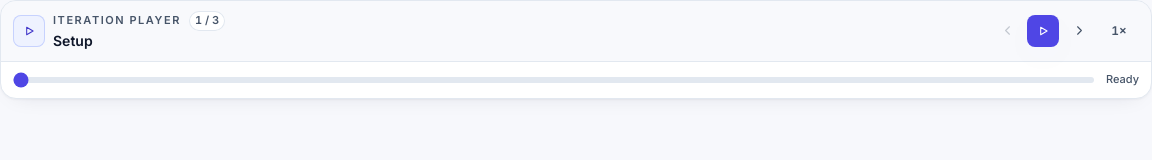
Scenario: IterationPlayer › moves through steps with the previous and next controls
Check: the slider named "Iteration step" holds "1", box [13,77,1094,83]
What coordinates should you click on to do the following:
click the button named "Next step"
I would click on:
 (1079, 31)
Its box is [1063,15,1095,47].
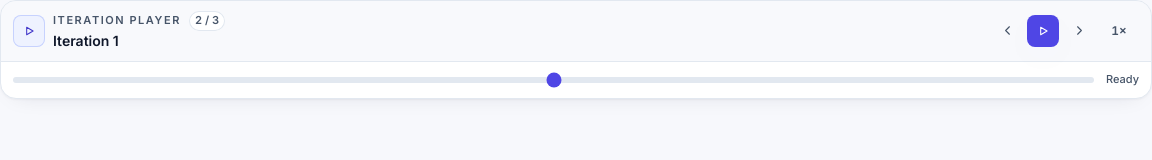
Check: the slider named "Iteration step" holds "2", box [13,77,1094,83]
What coordinates should you click on to do the following:
click the button named "Previous step"
I would click on:
 (1007, 31)
Its box is [991,15,1023,47].
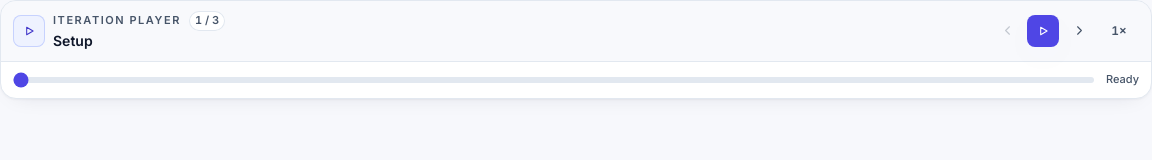
Check: the slider named "Iteration step" holds "1", box [13,77,1094,83]
